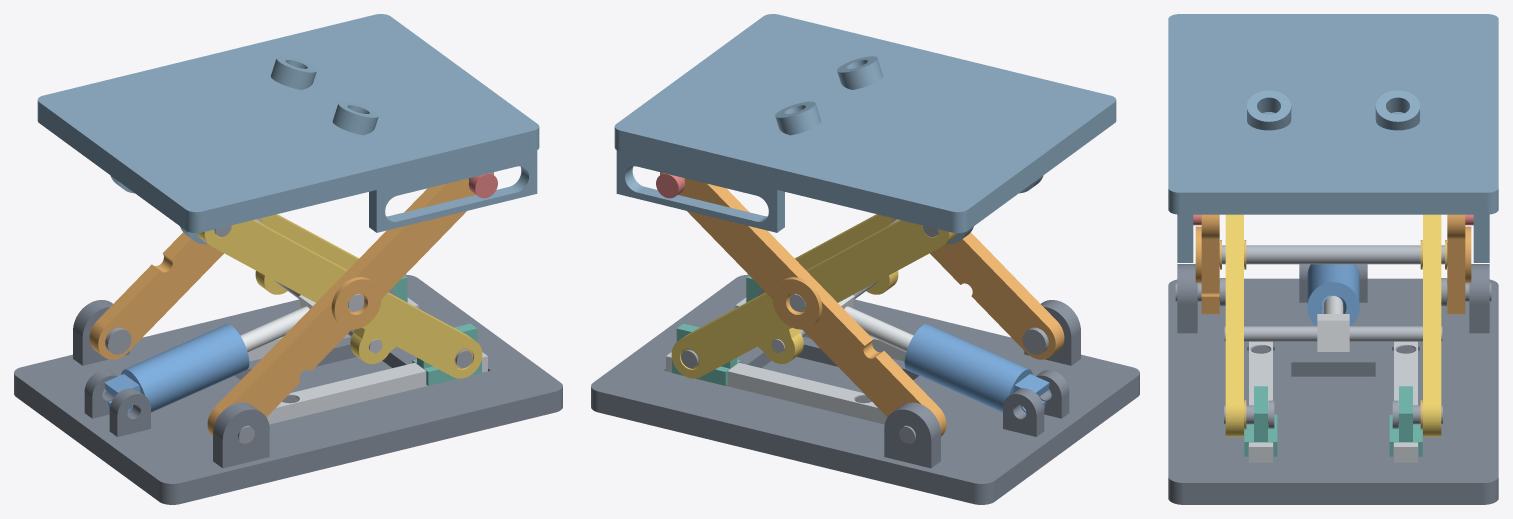
Rendered from cad_f3_01_scissor32.glb.
3 renders of one model, left to right at view 1: azimuth 30°, elevation 25°; view 2: azimuth 150°, elevation 25°; view 3: azimuth 270°, elevation 25°, orthographic. The views are drawn at different scales.
Parts seen in each view (by area): view 1: shear_table, base_frame, outer_scissor_arm_negY, inner_scissor_arm_negY, pneumatic_cylinder_barrel, outer_scissor_arm_posY, guide_rail_negY, inner_scissor_arm_posY, piston_rod_clevis, guide_slider_negY; view 2: shear_table, base_frame, outer_scissor_arm_posY, inner_scissor_arm_posY, pneumatic_cylinder_barrel, outer_scissor_arm_negY, guide_rail_posY, inner_scissor_arm_negY, piston_rod_clevis, guide_slider_posY; view 3: shear_table, base_frame, inner_scissor_arm_posY, inner_scissor_arm_negY, center_scissor_cross_axle, pneumatic_cylinder_barrel, pneumatic_drive_cross_pin, outer_scissor_arm_posY, outer_scissor_arm_negY, guide_rail_posY, guide_rail_negY, piston_rod_clevis (+4 smaller).
Part boxes in pixels (x1,y1,x2,y2): shear_table: (37,14,539,244); base_frame: (14,274,562,504); outer_scissor_arm_negY: (207,172,493,436); inner_scissor_arm_negY: (197,220,482,378); pneumatic_cylinder_barrel: (104,324,249,412); outer_scissor_arm_posY: (89,232,223,359); guide_rail_negY: (266,352,487,424); inner_scissor_arm_posY: (255,214,358,294); piston_rod_clevis: (240,295,315,351); guide_slider_negY: (412,323,481,385); shear_table: (614,14,1116,244); base_frame: (591,274,1139,504); outer_scissor_arm_posY: (660,172,946,436); inner_scissor_arm_posY: (671,220,956,378); pneumatic_cylinder_barrel: (904,324,1049,412); outer_scissor_arm_negY: (930,232,1064,359); guide_rail_posY: (666,352,887,424); inner_scissor_arm_negY: (795,214,898,294); piston_rod_clevis: (838,295,913,351); guide_slider_posY: (672,323,741,385); shear_table: (1168,14,1498,262); base_frame: (1168,264,1498,504); inner_scissor_arm_posY: (1423,214,1441,436); inner_scissor_arm_negY: (1225,214,1243,436); center_scissor_cross_axle: (1222,245,1444,264); pneumatic_cylinder_barrel: (1307,264,1359,326); pneumatic_drive_cross_pin: (1224,326,1442,341); outer_scissor_arm_posY: (1447,214,1471,314); outer_scissor_arm_negY: (1195,214,1219,314); guide_rail_posY: (1394,341,1417,462); guide_rail_negY: (1249,341,1272,462); piston_rod_clevis: (1317,296,1349,351).
Bounding box in the file's own units: 0.24 × 0.1772 × 0.164.
